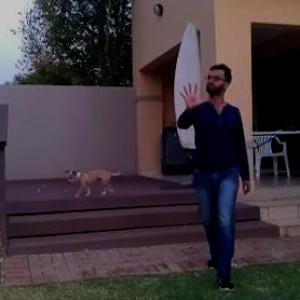follow_hand: (176, 77, 206, 113)
